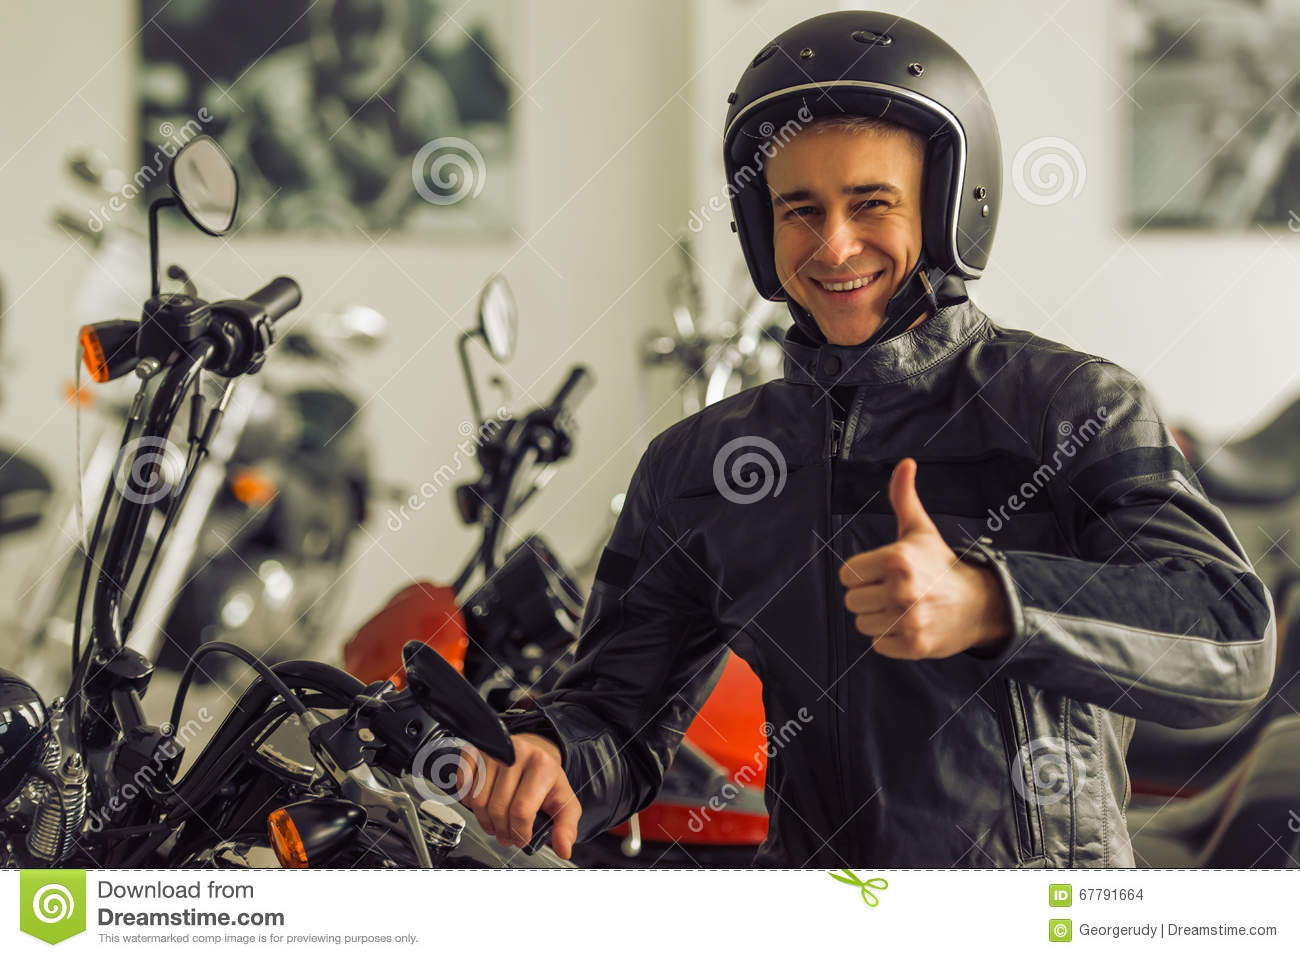helmet: (715, 17, 1011, 270)
